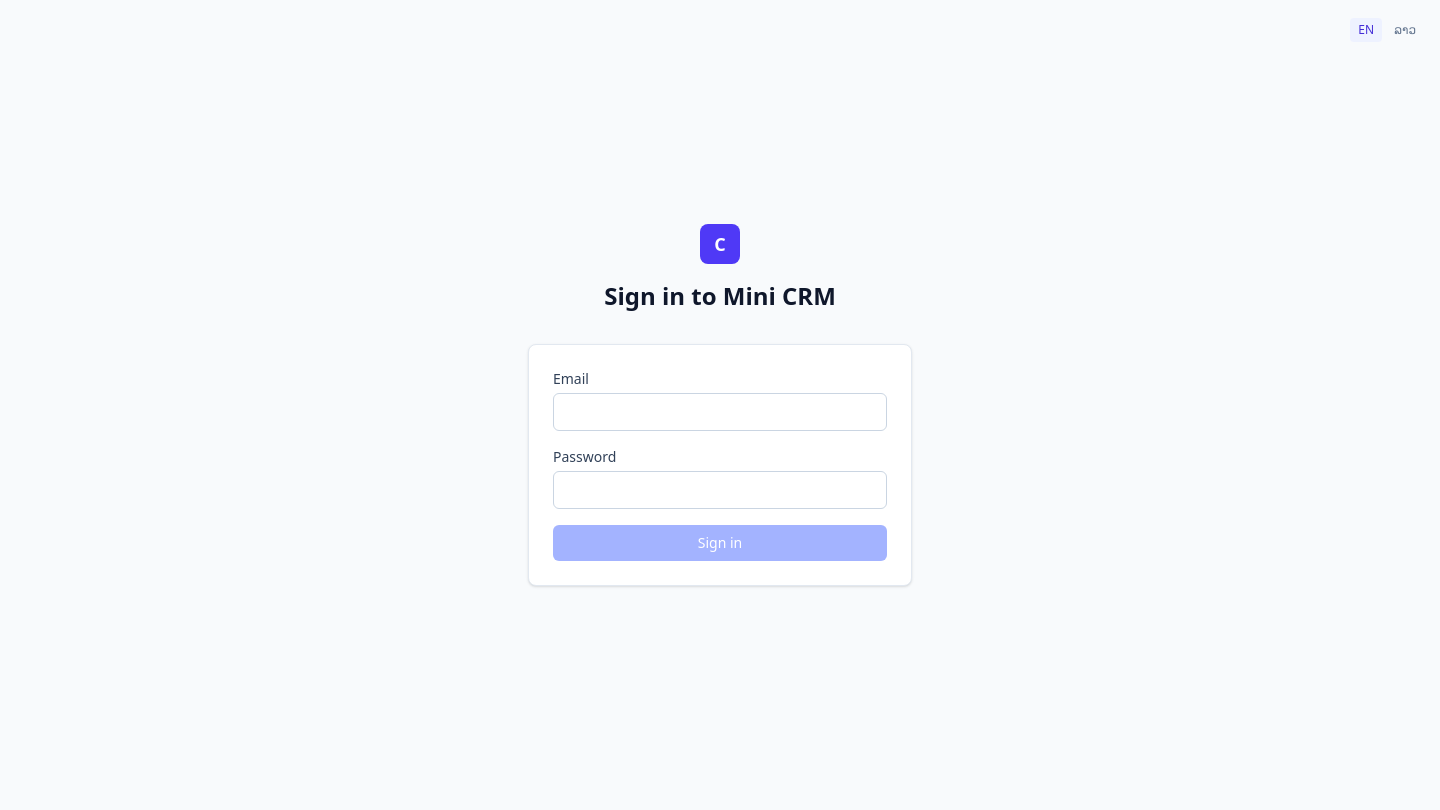
Test: route guard › returns to the requested page after logging in
Step 1. Type "somchai@example.com" into the field labelled "Email" → (720, 412), box [553,393,887,431]
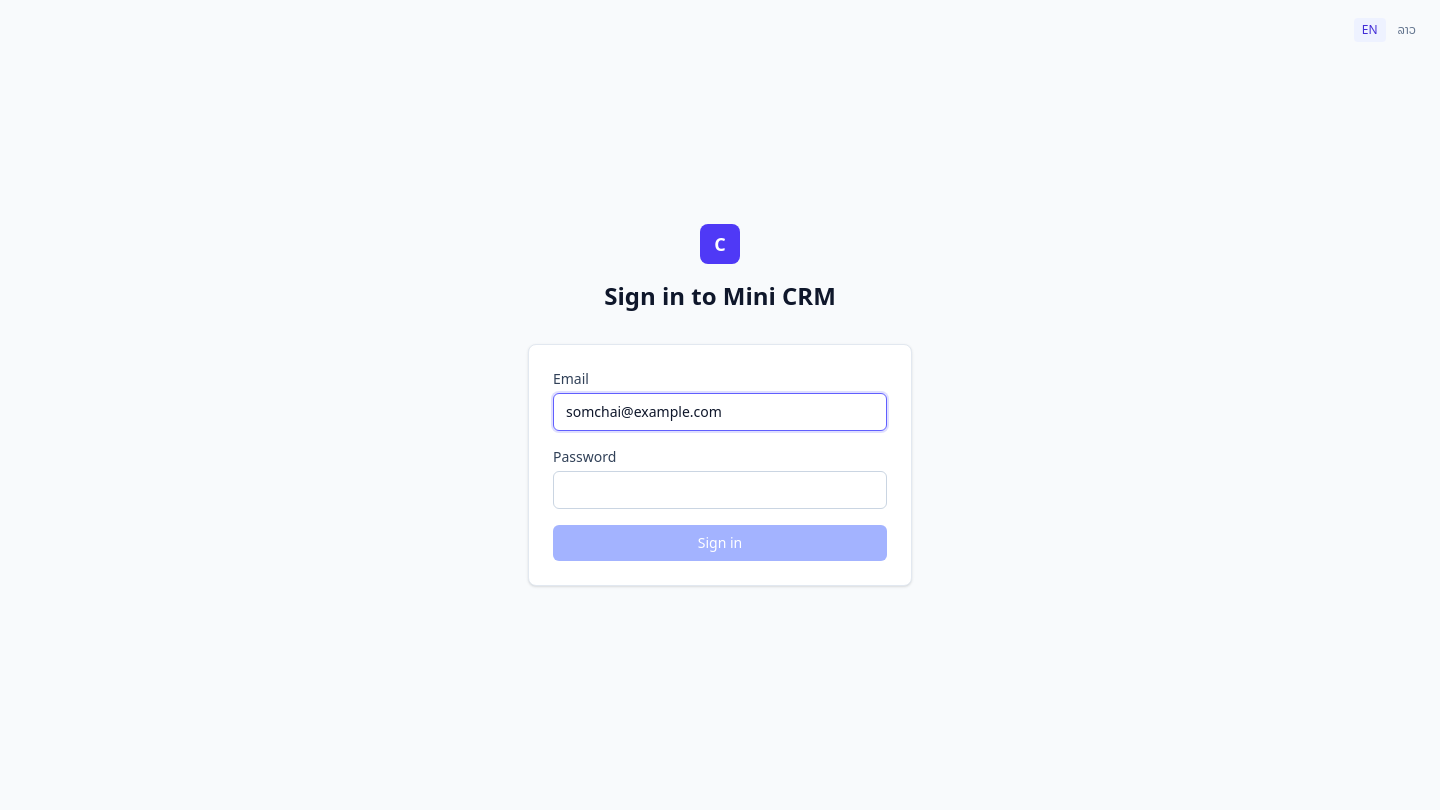
Step 2. Type "staff123" into the password field labelled "Password" → (720, 490), box [553,471,887,509]
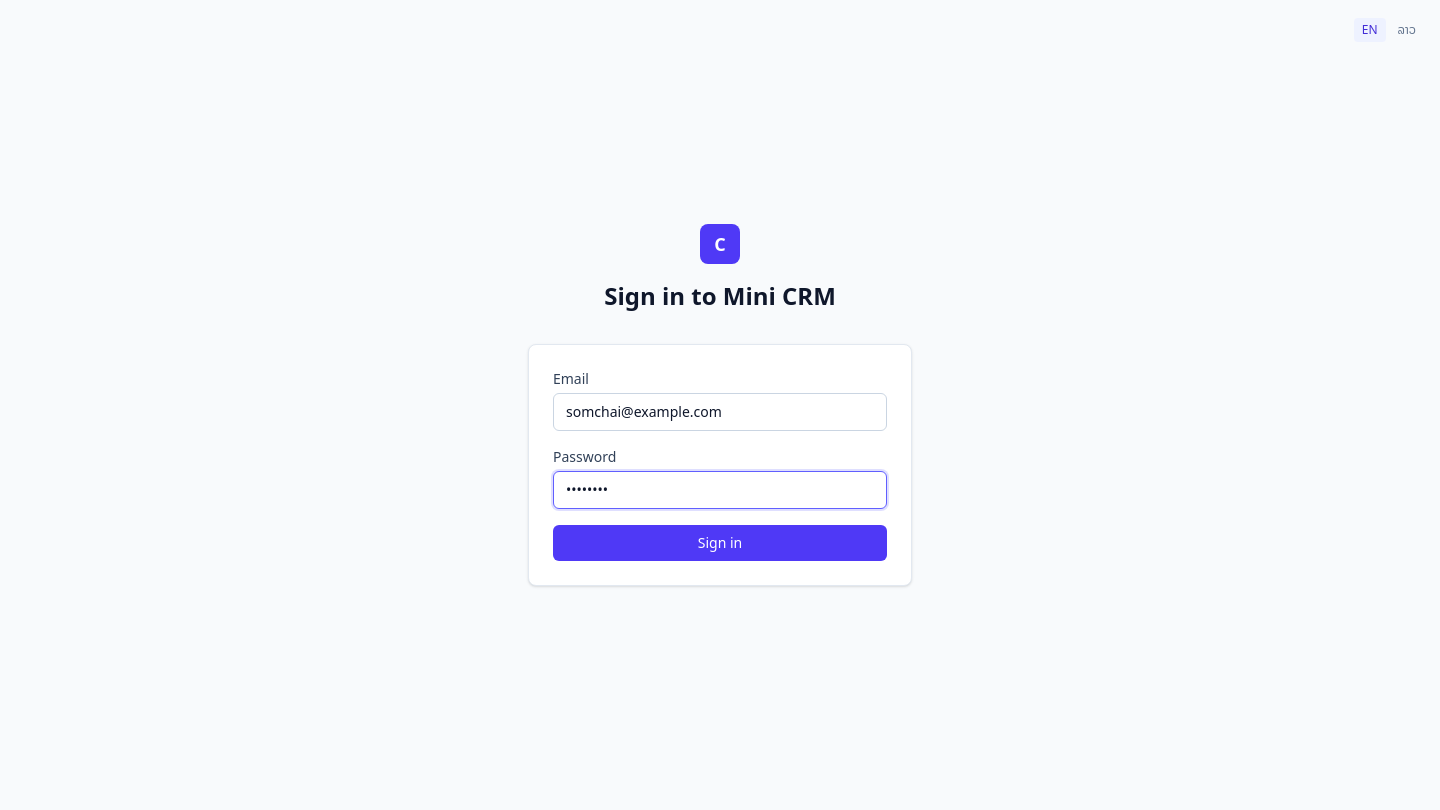
Step 3. Click the button "Sign in" → click(720, 543), box [553,525,887,561]
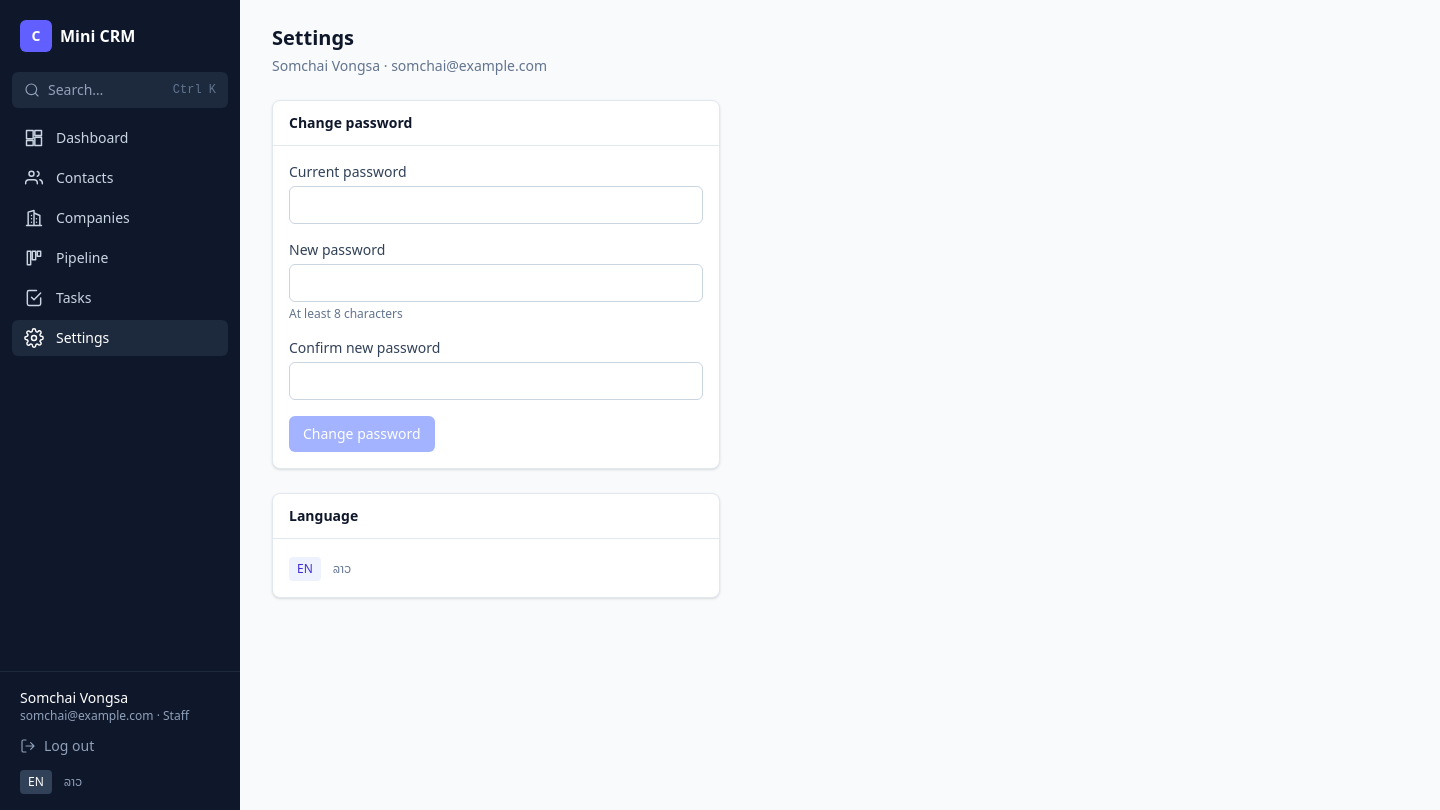
Expected: the heading "Settings" is shown, [272,24,354,51]
